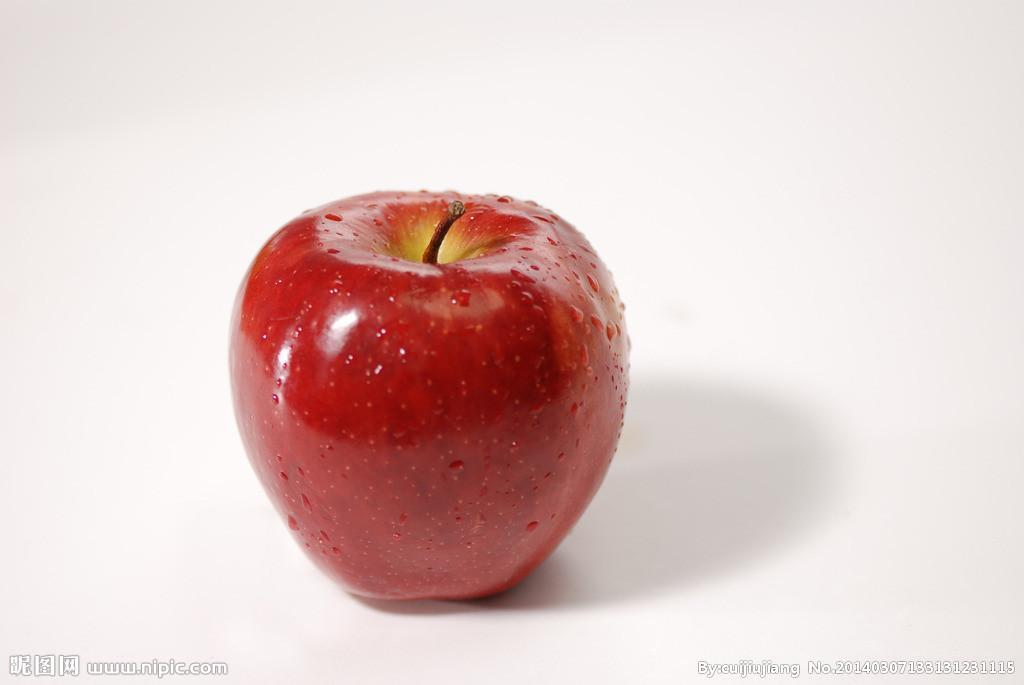apple: (223, 186, 635, 606)
